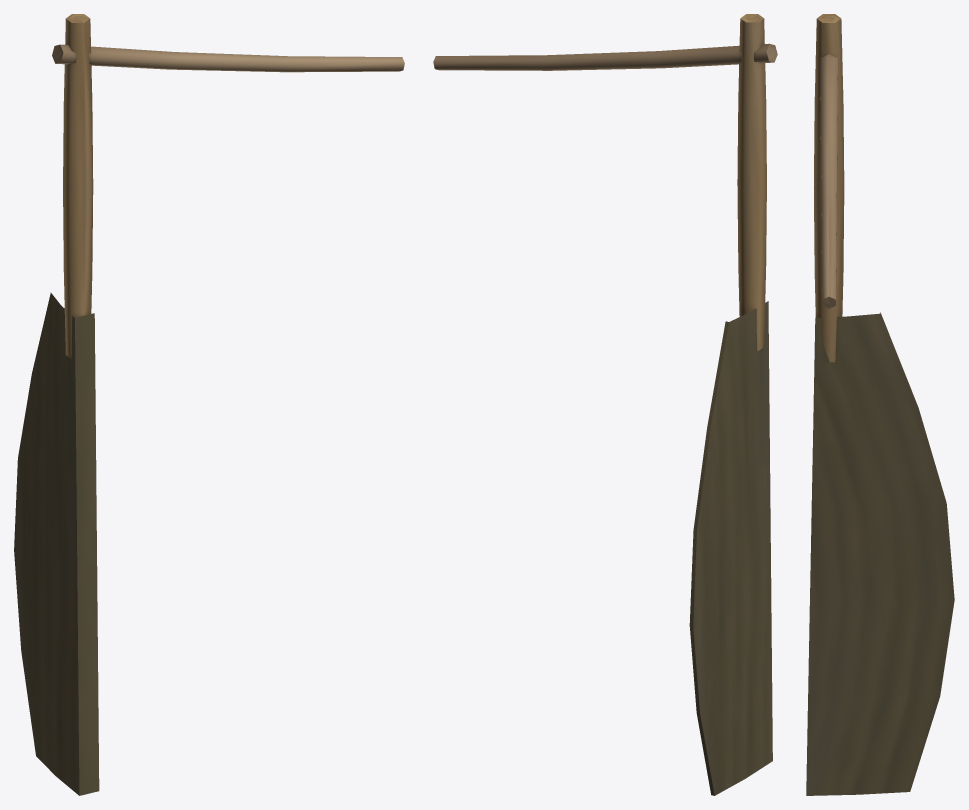
Rendered from DriftBoatRudder_LOD1.gltf.
3 views of the same model, side by side, from view 1: azimuth 30°, elevation 25°; view 2: azimuth 150°, elevation 25°; view 3: azimuth 270°, elevation 25° (orthographic). The views are drawn at different scales.
Visible parts, largest first — view 1: DriftBoatRudder; view 2: DriftBoatRudder; view 3: DriftBoatRudder.
Boxes of the visible parts, x1=… form: DriftBoatRudder: x1=14, y1=14, x2=404, y2=795; DriftBoatRudder: x1=433, y1=14, x2=777, y2=795; DriftBoatRudder: x1=806, y1=14, x2=954, y2=795.
Size of the model in its own units: 0.9794 by 2.07 by 0.3594.
Materials: 1 (1 with a texture image).
